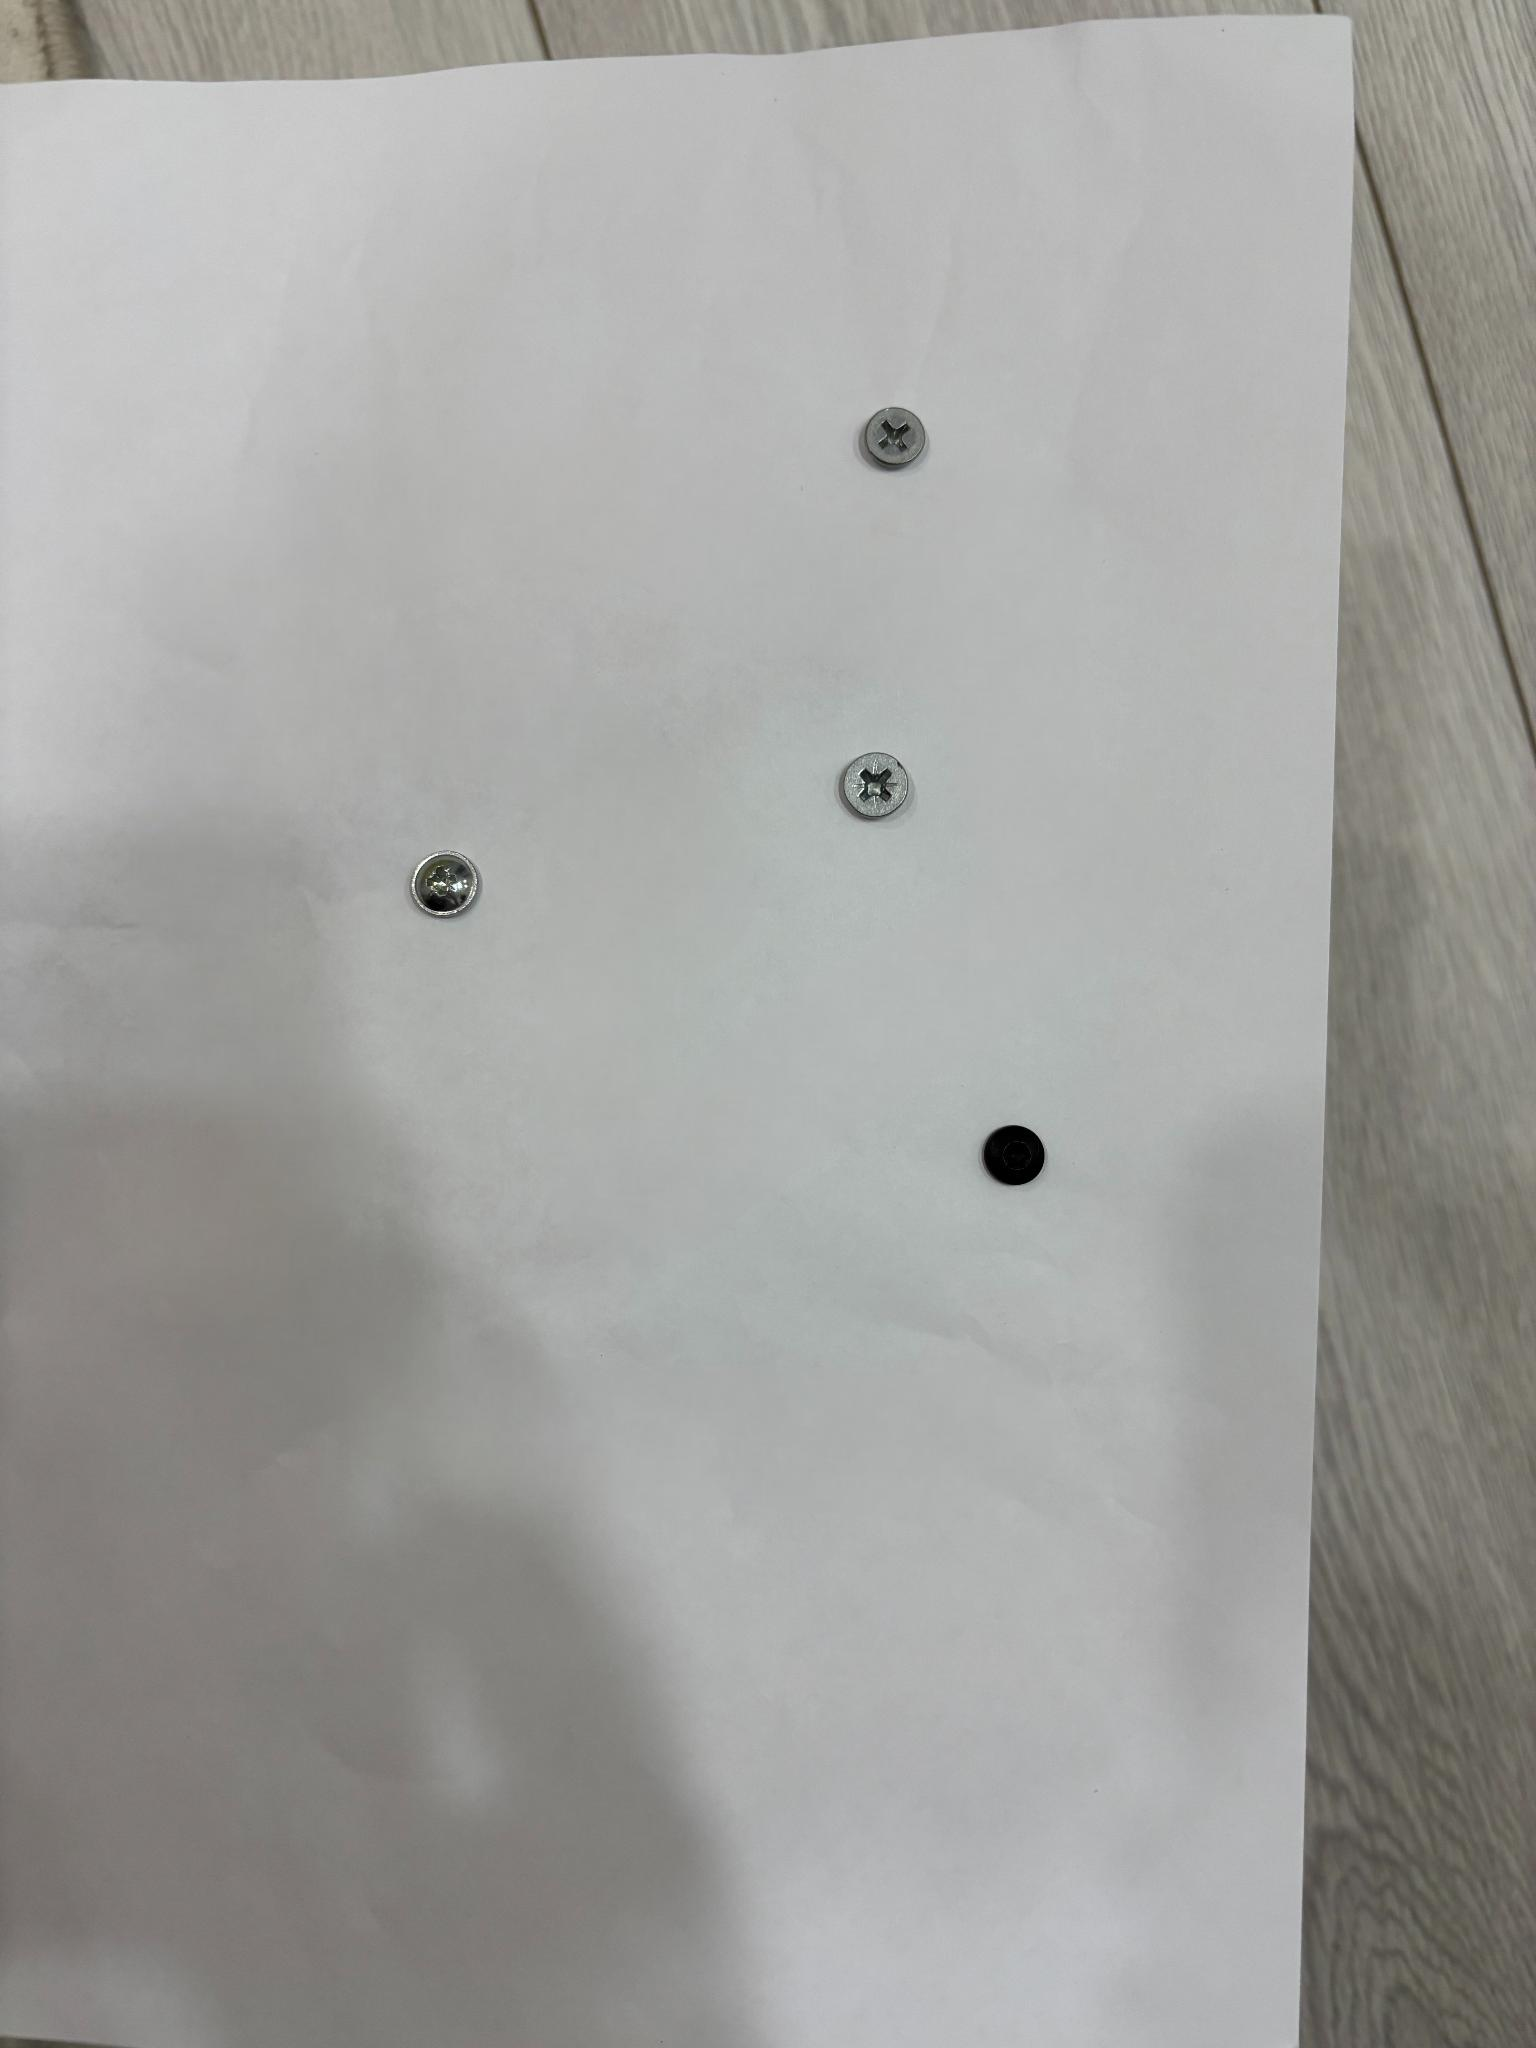H: (983, 1126, 1046, 1185)
PH: (865, 406, 926, 468)
PZ: (410, 851, 481, 918), (842, 751, 910, 819)
